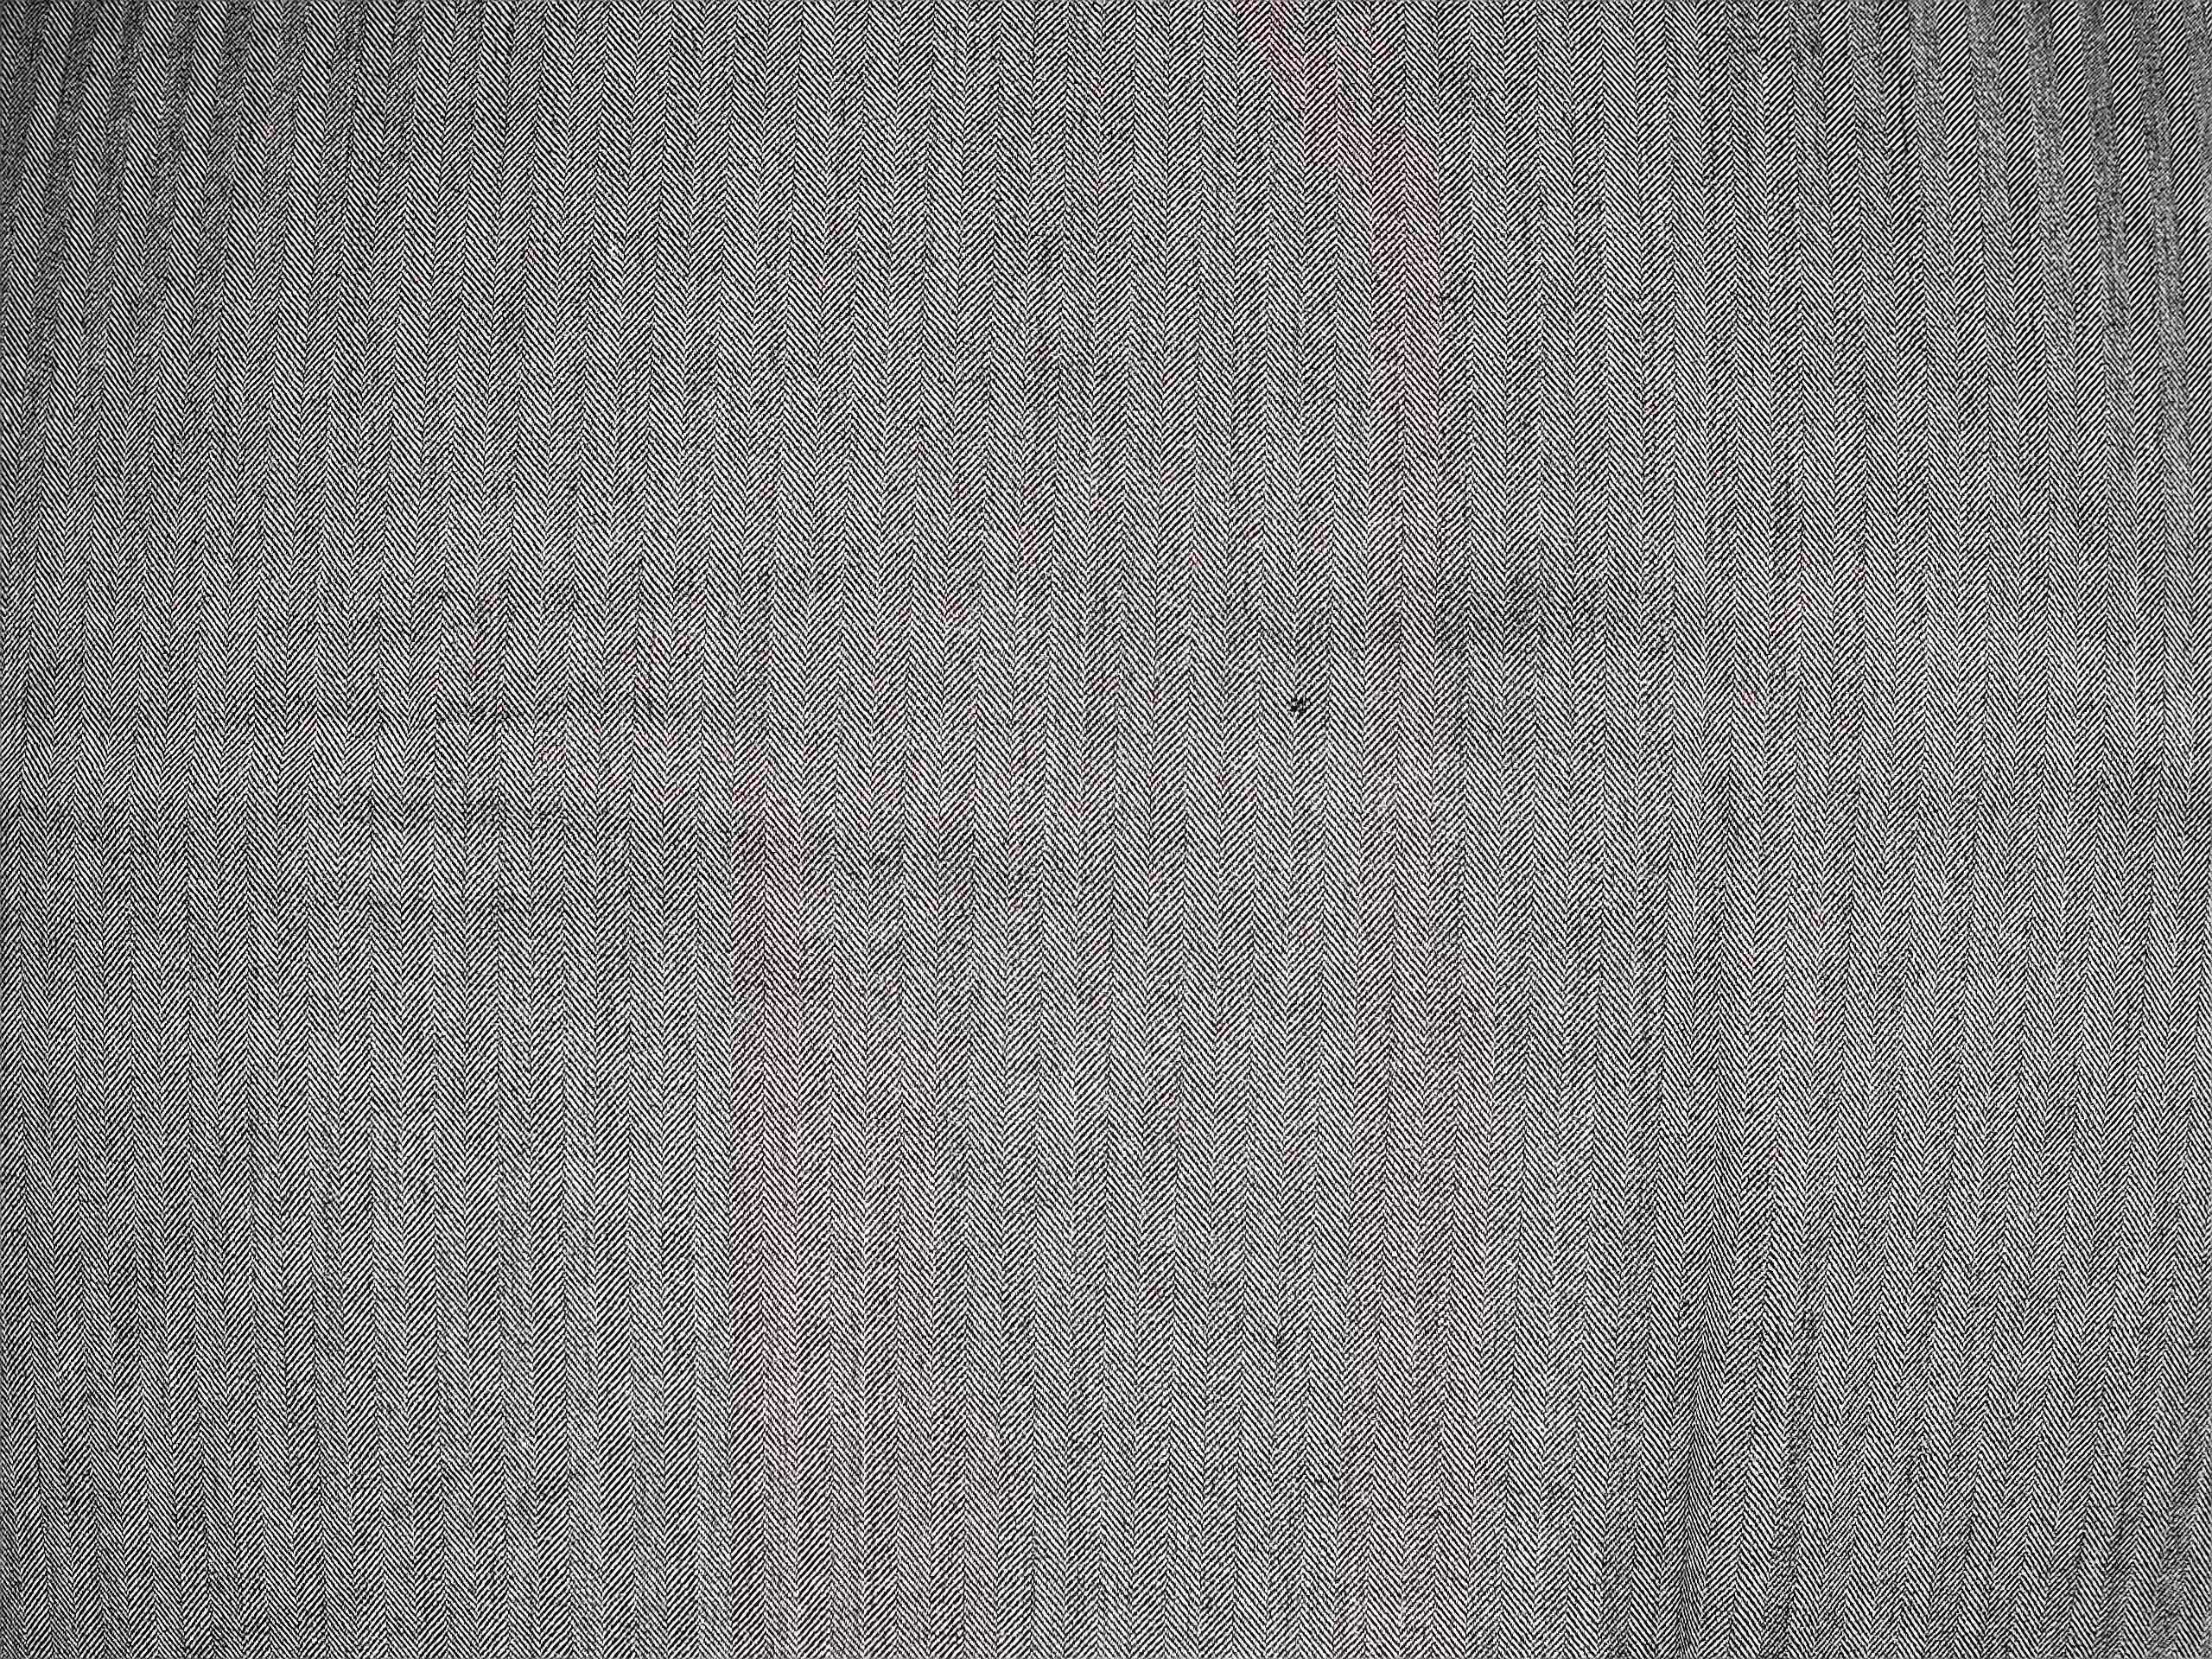rubbing-hole: (1273, 671, 1329, 737)
